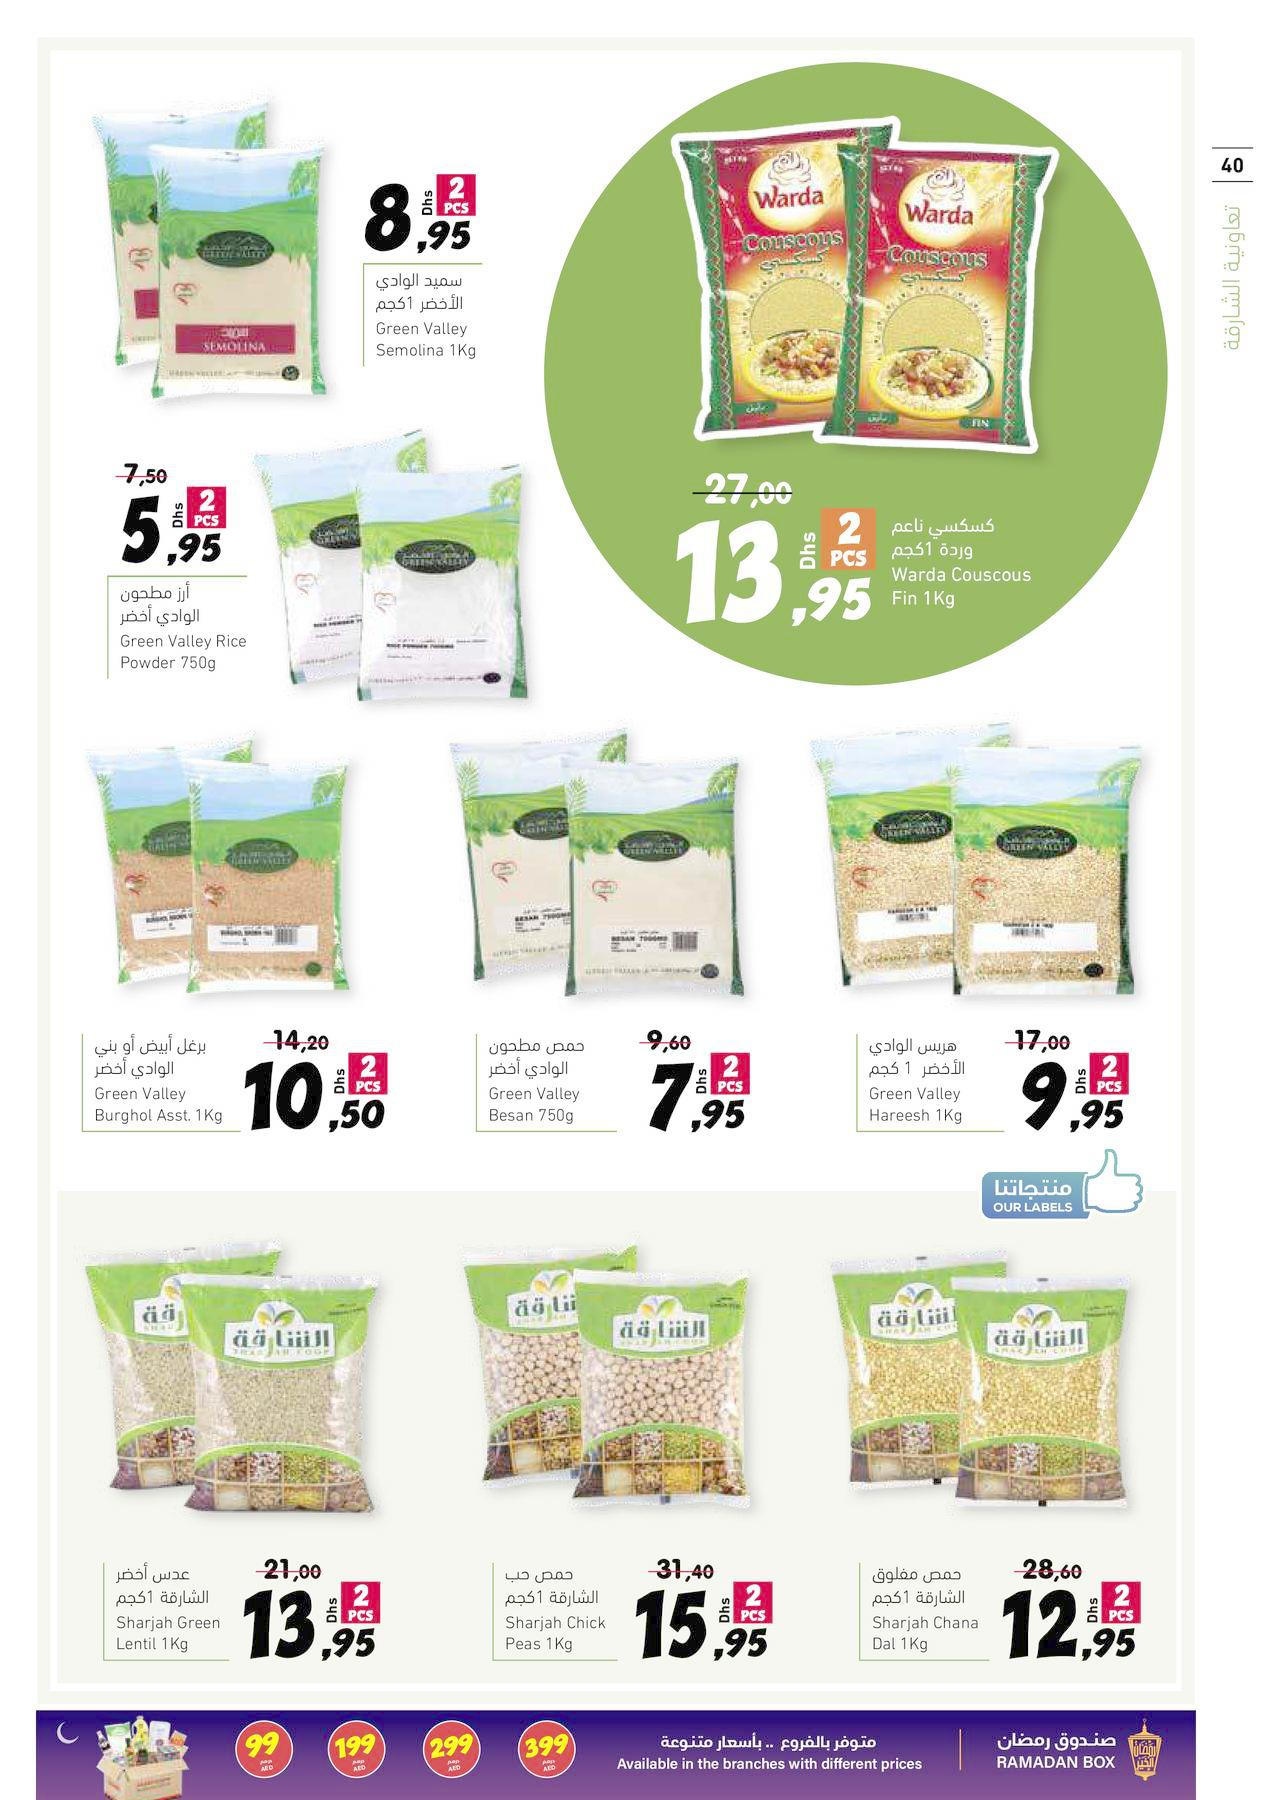text: (883, 514, 1037, 614), (85, 1029, 233, 1129), (112, 578, 252, 680), (496, 1562, 621, 1657), (864, 1560, 985, 1657), (368, 269, 489, 364), (481, 1030, 597, 1129), (861, 1030, 977, 1129), (107, 1560, 226, 1655)
